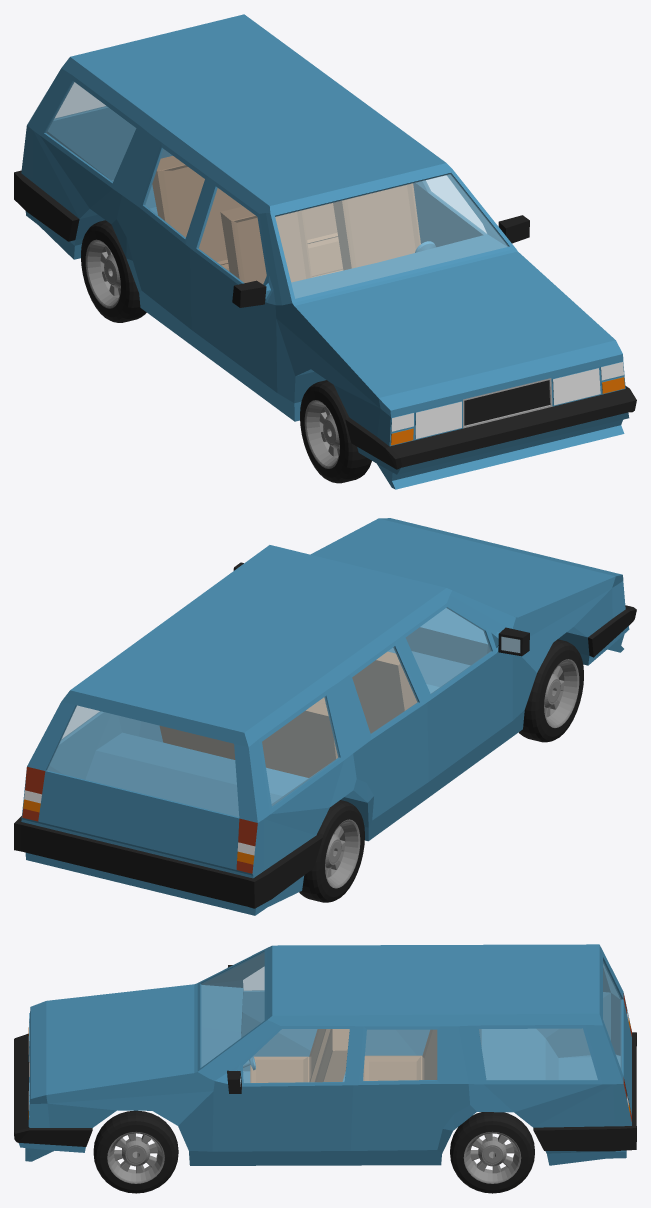
The model's file is volvo745-1_WITHINSIDE.fbx.
3 views of the same model, one above another, from view 1: azimuth 30°, elevation 25°; view 2: azimuth 150°, elevation 25°; view 3: azimuth 270°, elevation 25° (orthographic). The views are drawn at different scales.
Parts seen in each view (by area): view 1: Body, WheelFR, SofaBack, ChairFL, ChairFR; view 2: Body, WheelFR, SofaBack, ChairFR; view 3: Body, WheelFR, SofaBack, ChairFR, ChairFL.
Part boxes in pixels (bbox=[...]): Body: bbox=[14, 14, 636, 489]; WheelFR: bbox=[81, 220, 371, 483]; SofaBack: bbox=[152, 156, 343, 277]; ChairFL: bbox=[333, 183, 420, 270]; ChairFR: bbox=[220, 206, 311, 283]; Body: bbox=[14, 518, 636, 915]; WheelFR: bbox=[299, 639, 583, 902]; SofaBack: bbox=[159, 702, 337, 777]; ChairFR: bbox=[352, 651, 416, 733]; Body: bbox=[14, 944, 636, 1165]; WheelFR: bbox=[93, 1110, 534, 1193]; SofaBack: bbox=[363, 1029, 437, 1080]; ChairFR: bbox=[250, 1029, 330, 1082]; ChairFL: bbox=[315, 1029, 349, 1082].
Bounding box in the file's own units: 208 × 143 × 476.
